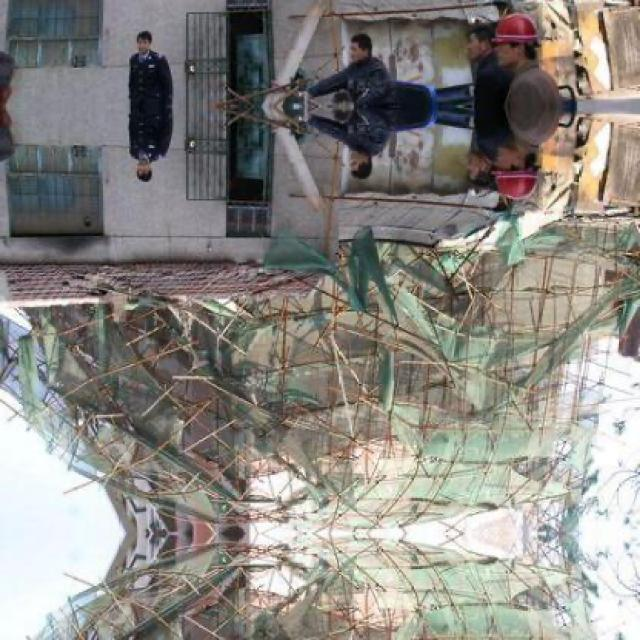con casco: (476, 140, 566, 217)
sin casco: (113, 133, 197, 202), (345, 114, 391, 186)
